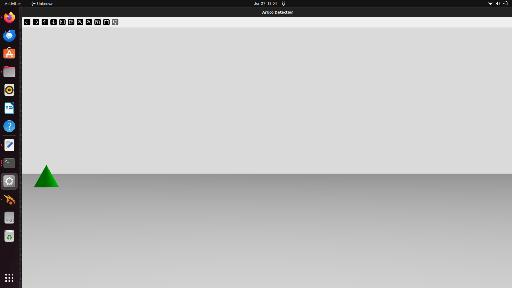green_cone: (34, 164, 61, 188)
